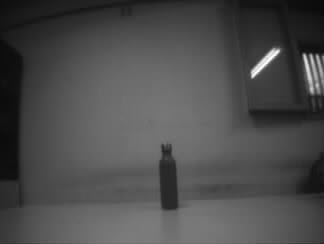Bottle: (158, 143, 179, 210)
